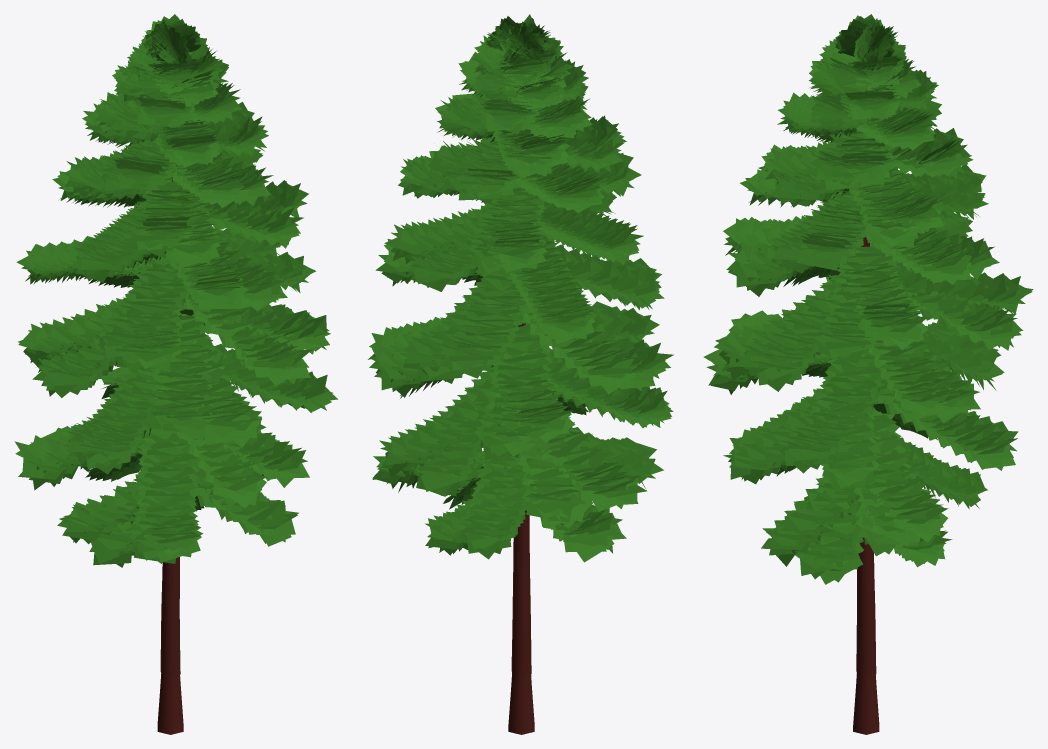
The model's file is Tree.fbx.
3 views of the same model, side by side, from view 1: azimuth 30°, elevation 25°; view 2: azimuth 150°, elevation 25°; view 3: azimuth 270°, elevation 25° (orthographic).
Visible parts, largest first — view 1: BigTree; view 2: BigTree; view 3: BigTree.
Part boxes in pixels (box(x1,y1,x2,y2)): BigTree: box(14, 14, 337, 734); BigTree: box(368, 14, 673, 734); BigTree: box(703, 14, 1033, 734).
Size of the model in its own units: 1087 by 2686 by 1133.
